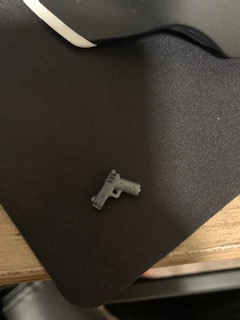pistol: (89, 168, 143, 209)
